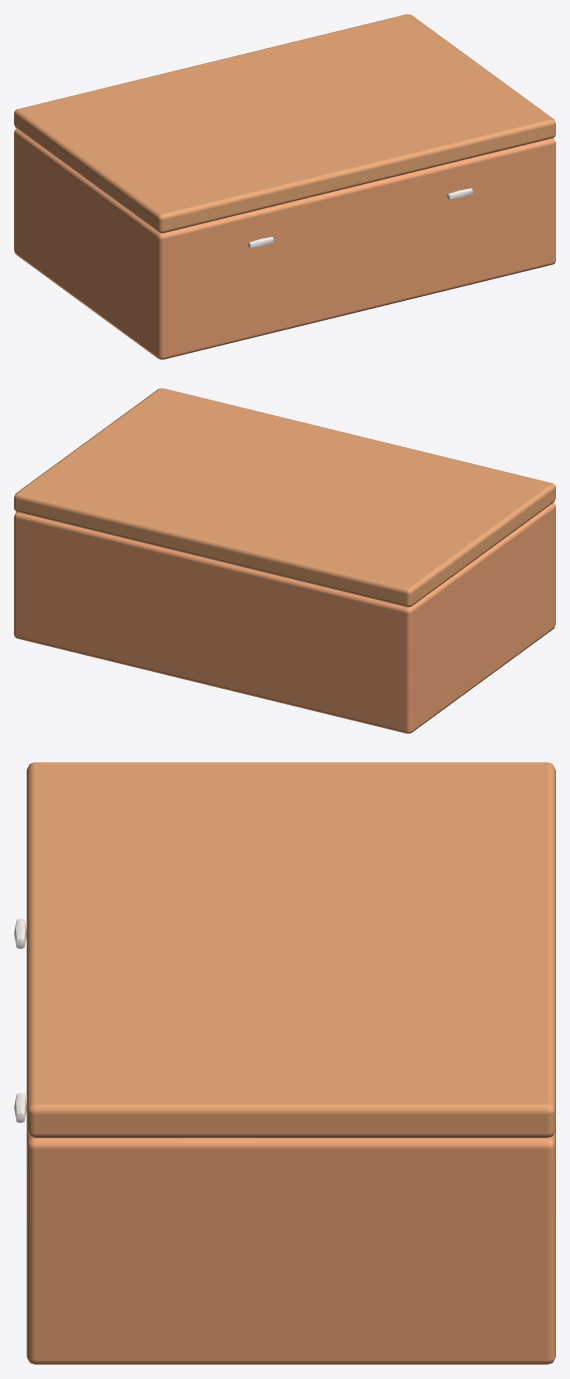
File: counter-wide.glb
3 renders of one model, top to bottom at view 1: azimuth 30°, elevation 25°; view 2: azimuth 150°, elevation 25°; view 3: azimuth 270°, elevation 25°, orthographic. The views are drawn at different scales.
Parts seen in each view (by area): view 1: part (×2); view 2: part (×2); view 3: part (×2).
Boxes of the visible parts, left/top/right/bottom form: part (×2): left=14, top=14, right=555, bottom=359; part (×2): left=14, top=388, right=555, bottom=733; part (×2): left=26, top=762, right=555, bottom=1364.
Bounding box in the file's own units: 2.8 × 0.98 × 1.84.
1 material, 1 textured.
